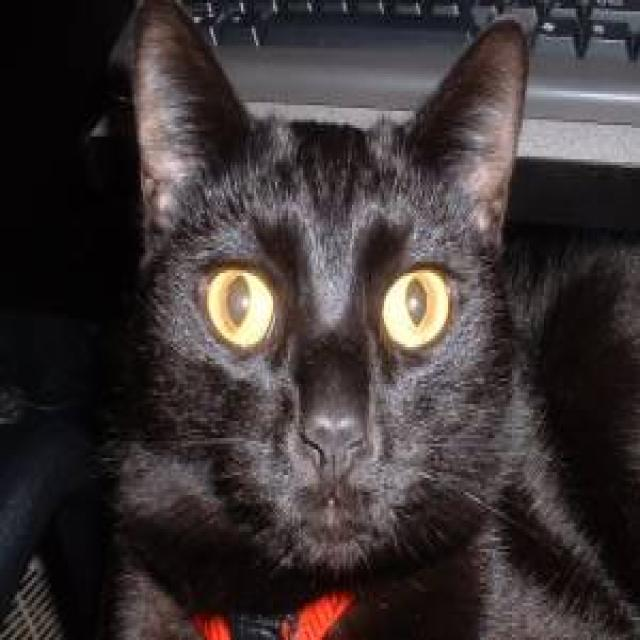Bombay: (120, 12, 536, 580)
